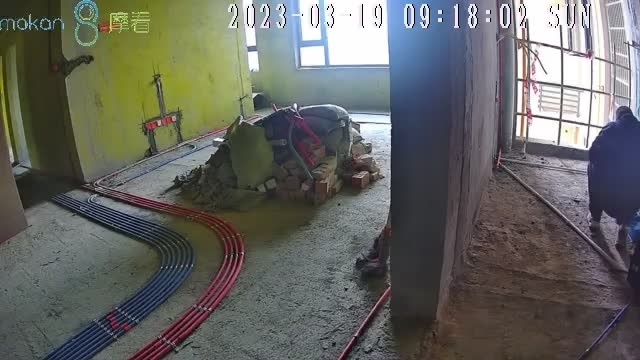people: (586, 107, 639, 249)
window: (509, 1, 637, 153), (294, 1, 390, 68)
